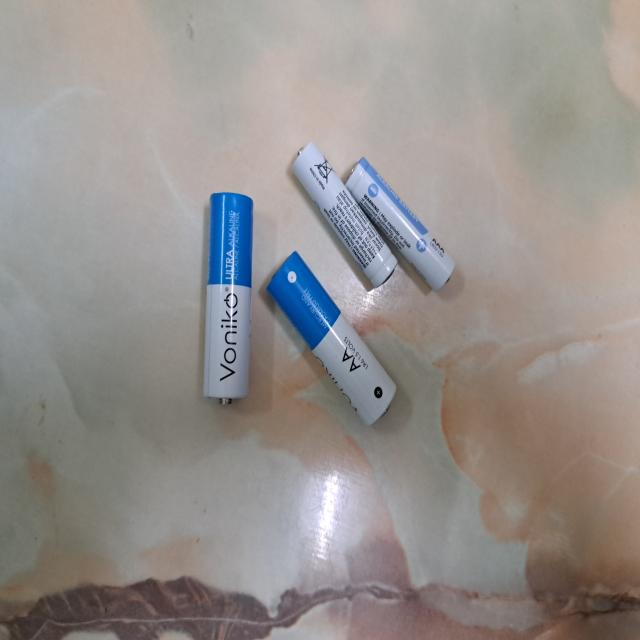battery: (264, 251, 398, 430), (291, 138, 398, 286), (346, 156, 454, 292), (201, 191, 253, 407)
